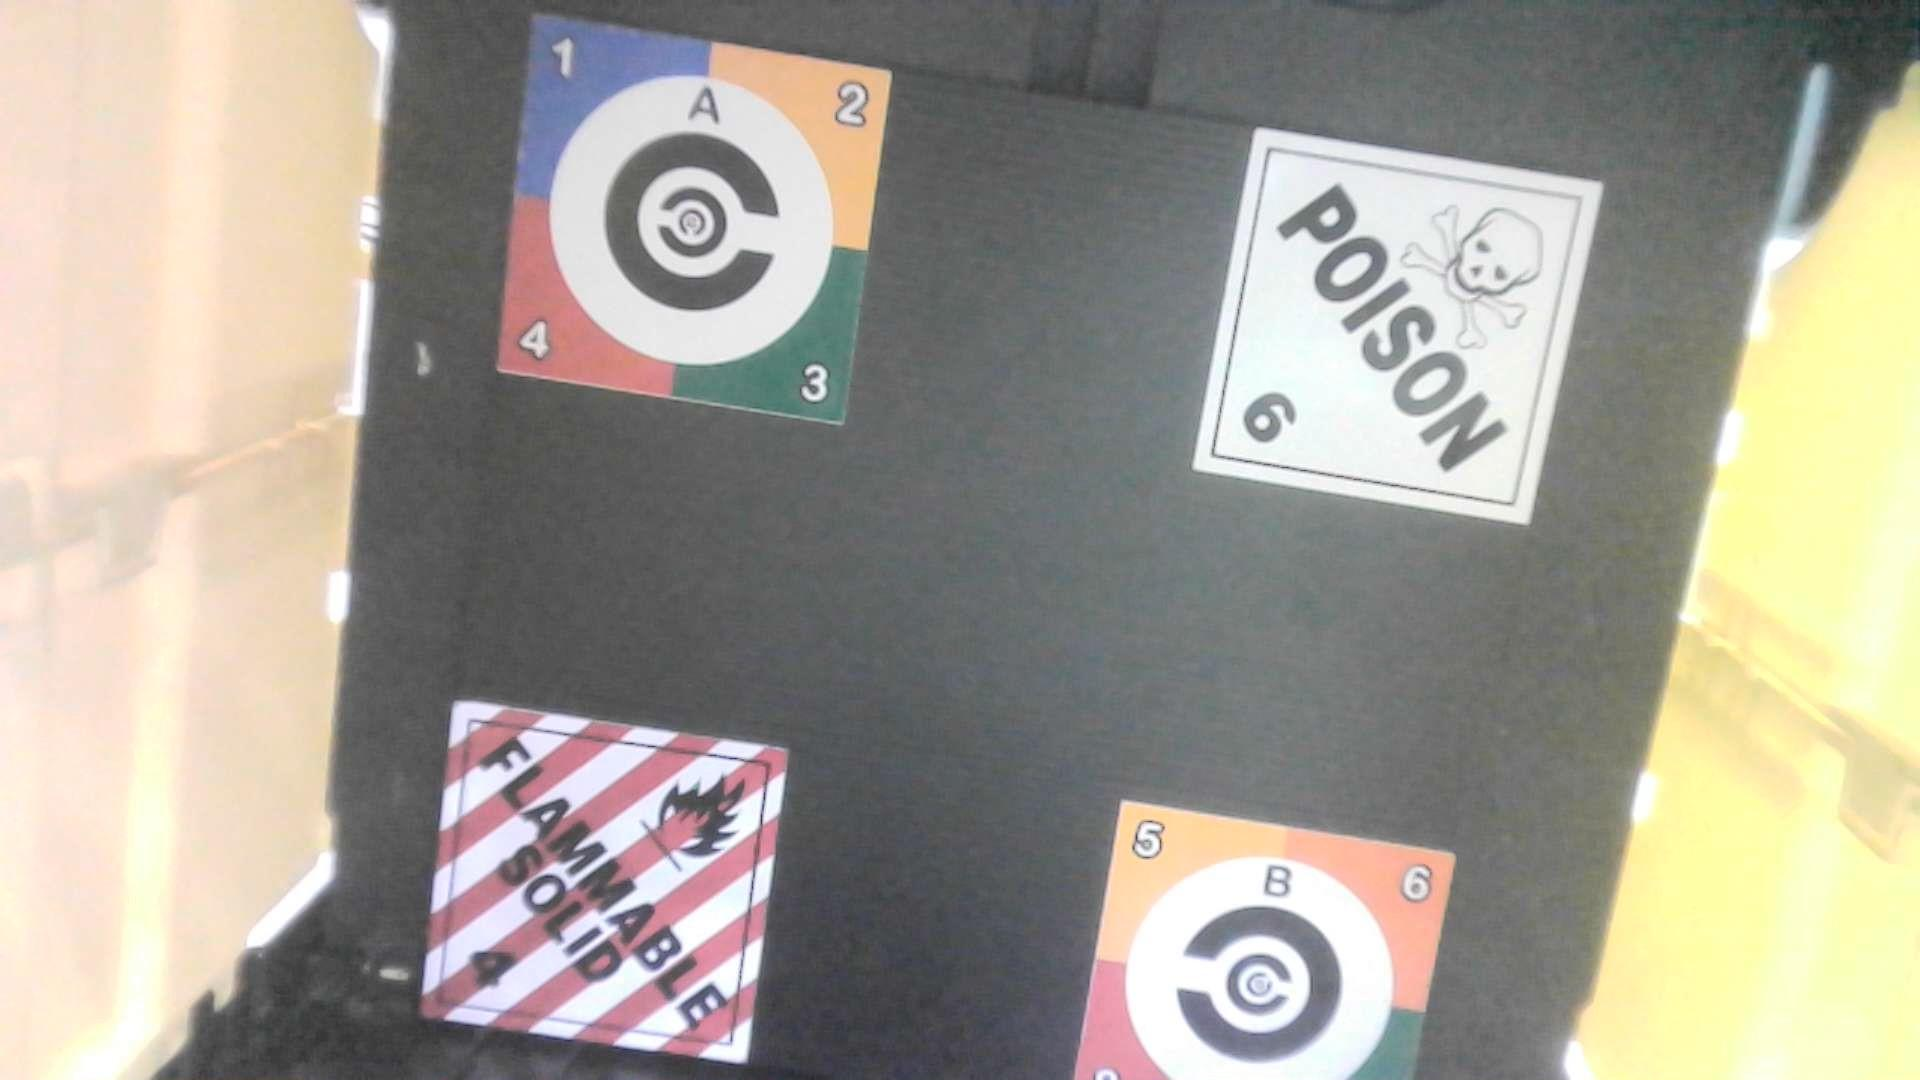flammable-solid: (414, 688, 793, 1069)
poison: (1193, 127, 1615, 538)
